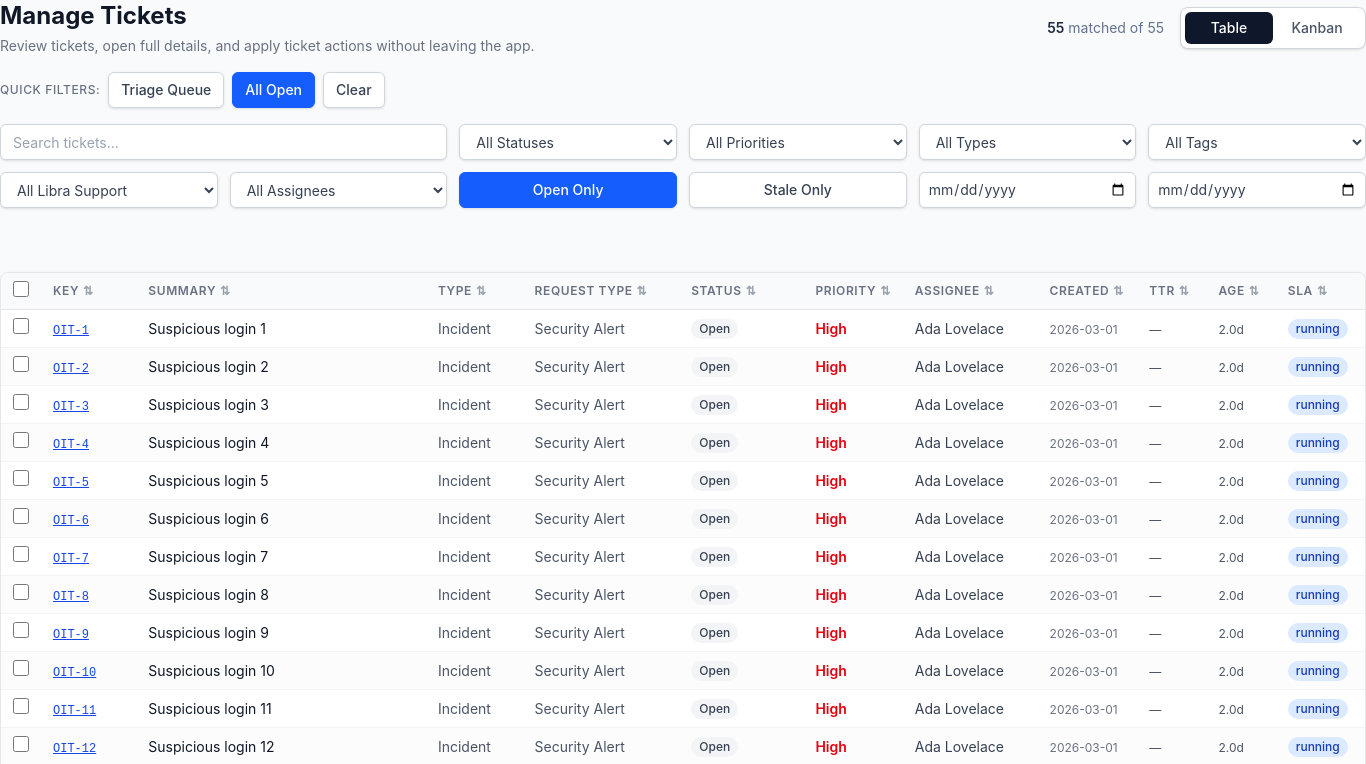
it: ManagePage › renders large kanban columns progressively
Click the button "Kanban" at (1317, 28), box [1273, 12, 1361, 44]
(page scrolled)
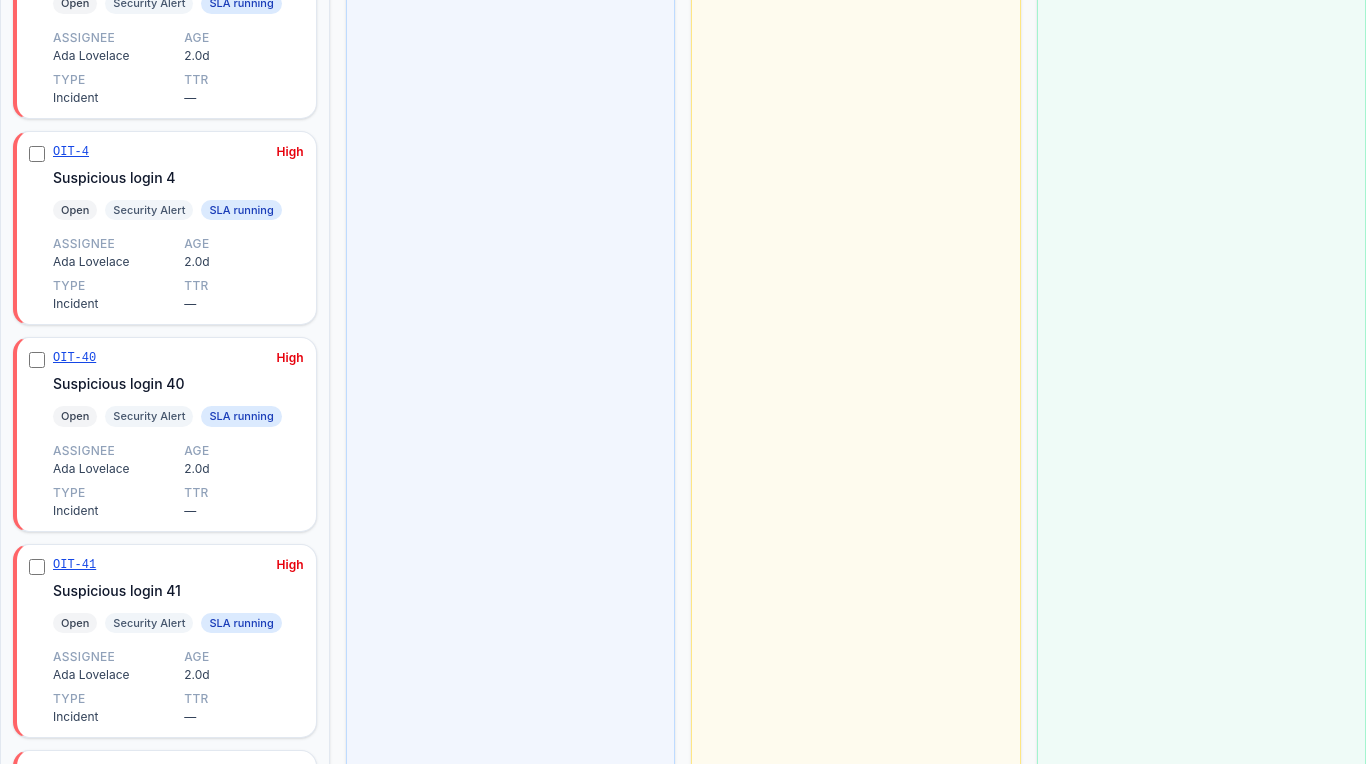
Result: the text "Suspicious login 40" is shown at [53, 375, 184, 392]
